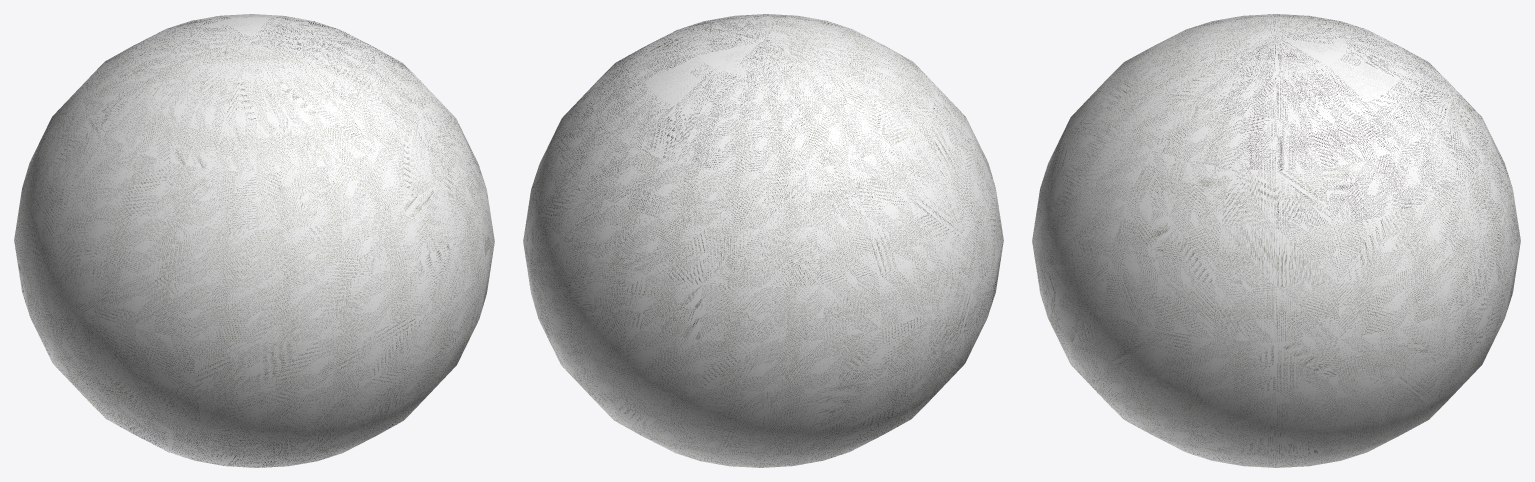
File: original-4.obj
The picture shows the model from 3 angles, left to right: view 1: azimuth 30°, elevation 25°; view 2: azimuth 150°, elevation 25°; view 3: azimuth 270°, elevation 25°; orthographic projection.
Visible parts, largest first — view 1: mesh2/mesh2-geometry#mesh2-geometry; view 2: mesh2/mesh2-geometry#mesh2-geometry; view 3: mesh2/mesh2-geometry#mesh2-geometry.
Part boxes in pixels (bbox=[...]): mesh2/mesh2-geometry#mesh2-geometry: bbox=[14, 14, 494, 467]; mesh2/mesh2-geometry#mesh2-geometry: bbox=[523, 14, 1003, 467]; mesh2/mesh2-geometry#mesh2-geometry: bbox=[1032, 14, 1520, 467].
Bounding box in the file's own units: 0.1016 × 0.094 × 0.1032.
